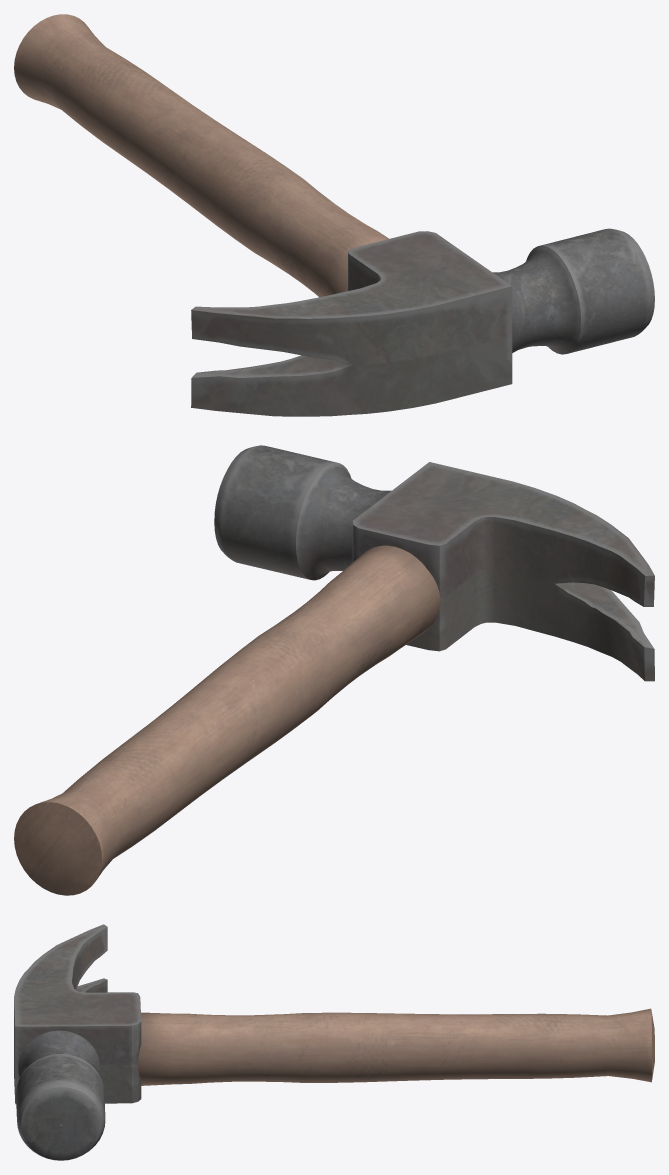
Rendered from Hammer.fbx.
The picture shows the model from 3 angles, top to bottom: view 1: azimuth 30°, elevation 25°; view 2: azimuth 150°, elevation 25°; view 3: azimuth 270°, elevation 25°; orthographic projection. The views are drawn at different scales.
Parts seen in each view (by area): view 1: Hammer; view 2: Hammer; view 3: Hammer.
Boxes of the visible parts, x1,y1,x2,y2 form: Hammer: [14, 14, 654, 416]; Hammer: [14, 445, 654, 895]; Hammer: [14, 924, 654, 1160].
Size of the model in its own units: 17.42 by 4.09 by 29.39.
